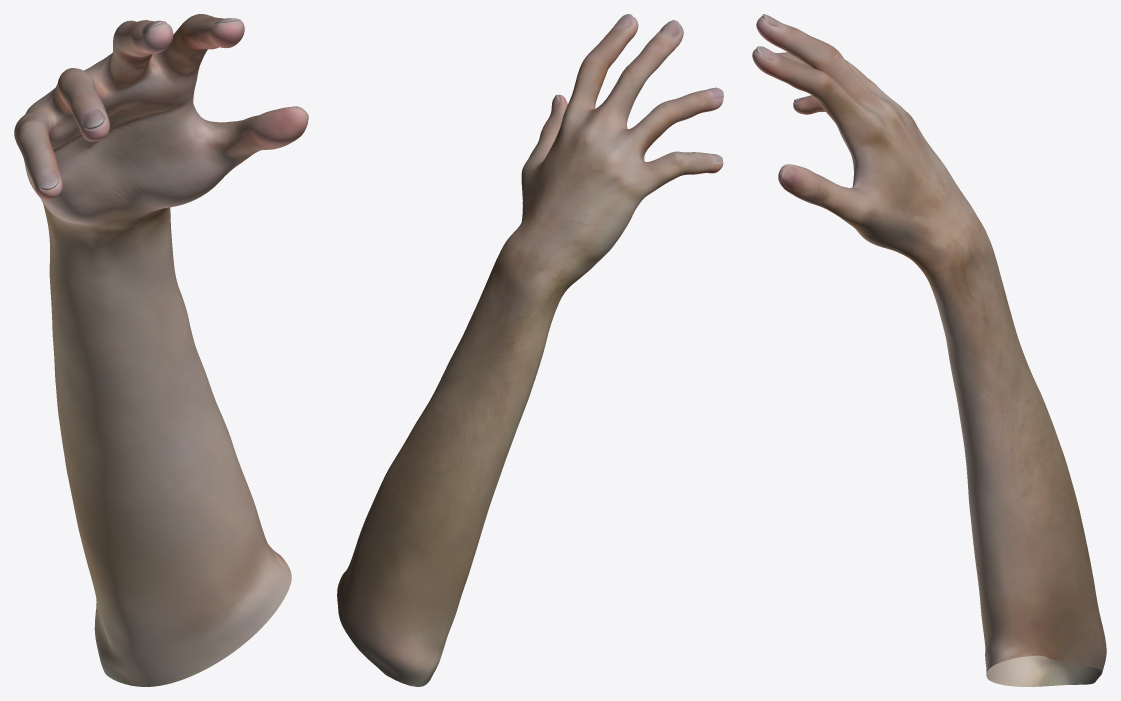
Rendered from arm (1).glb.
The picture shows the model from 3 angles, left to right: view 1: azimuth 30°, elevation 25°; view 2: azimuth 150°, elevation 25°; view 3: azimuth 270°, elevation 25°; orthographic projection. The views are drawn at different scales.
Visible parts, largest first — view 1: Group2; view 2: Group2; view 3: Group2.
Part boxes in pixels (x1=…): Group2: x1=14, y1=14, x2=308, y2=686; Group2: x1=337, y1=14, x2=723, y2=686; Group2: x1=752, y1=14, x2=1106, y2=686.
Size of the model in its own units: 0.8844 by 1.82 by 0.9504.
1 material, 1 textured.
